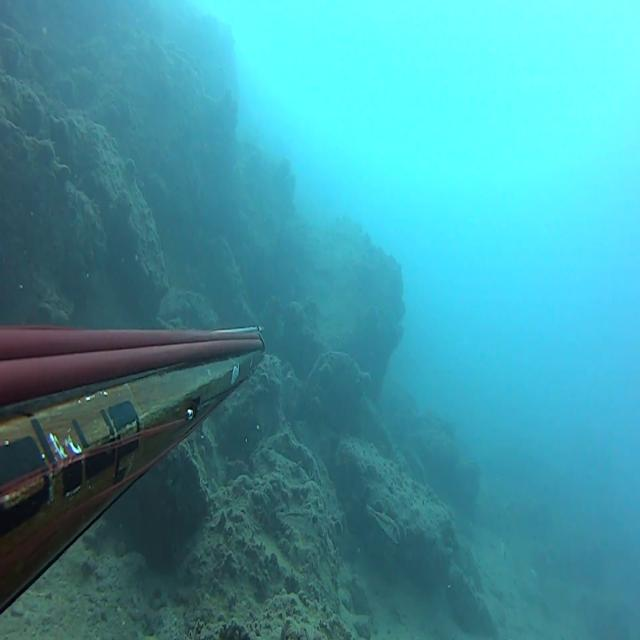Balon Baligi: (366, 504, 401, 544), (276, 510, 324, 538)
